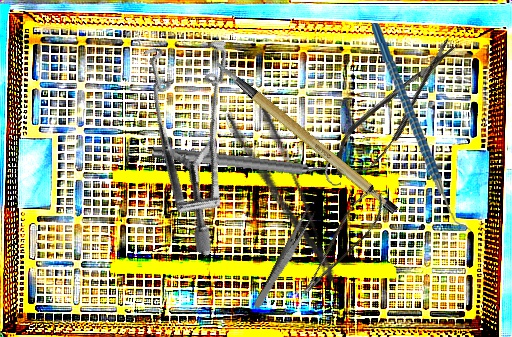Chopper: (371, 18, 472, 237)
Dressing Forceps: (223, 97, 340, 297), (252, 205, 318, 311)
Fixation Ring: (150, 135, 345, 189)
Micro Scissor: (320, 30, 473, 189), (284, 183, 396, 299)
Scalpel Handle: (215, 35, 401, 236)
Speculum: (73, 10, 301, 258)
